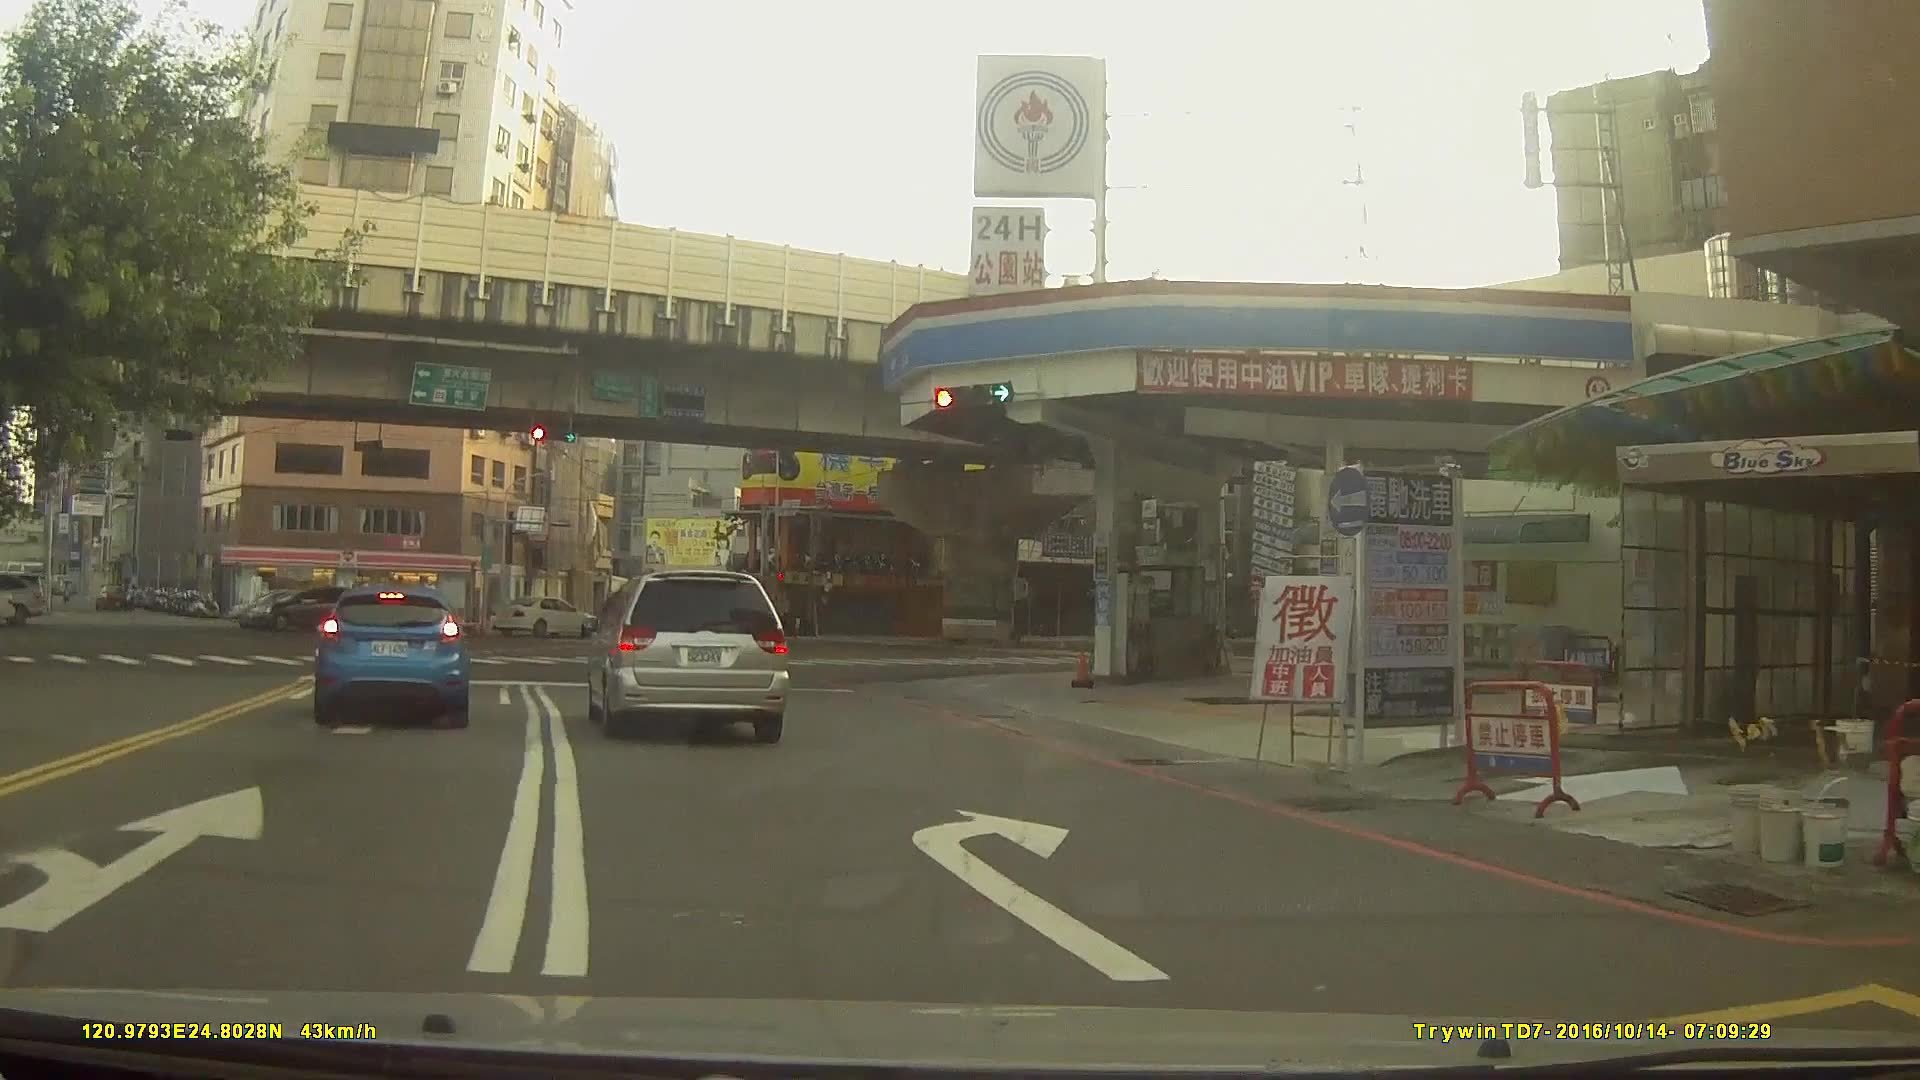vehicle: (584, 567, 789, 744), (310, 579, 472, 731), (243, 585, 365, 633), (488, 595, 596, 638)
